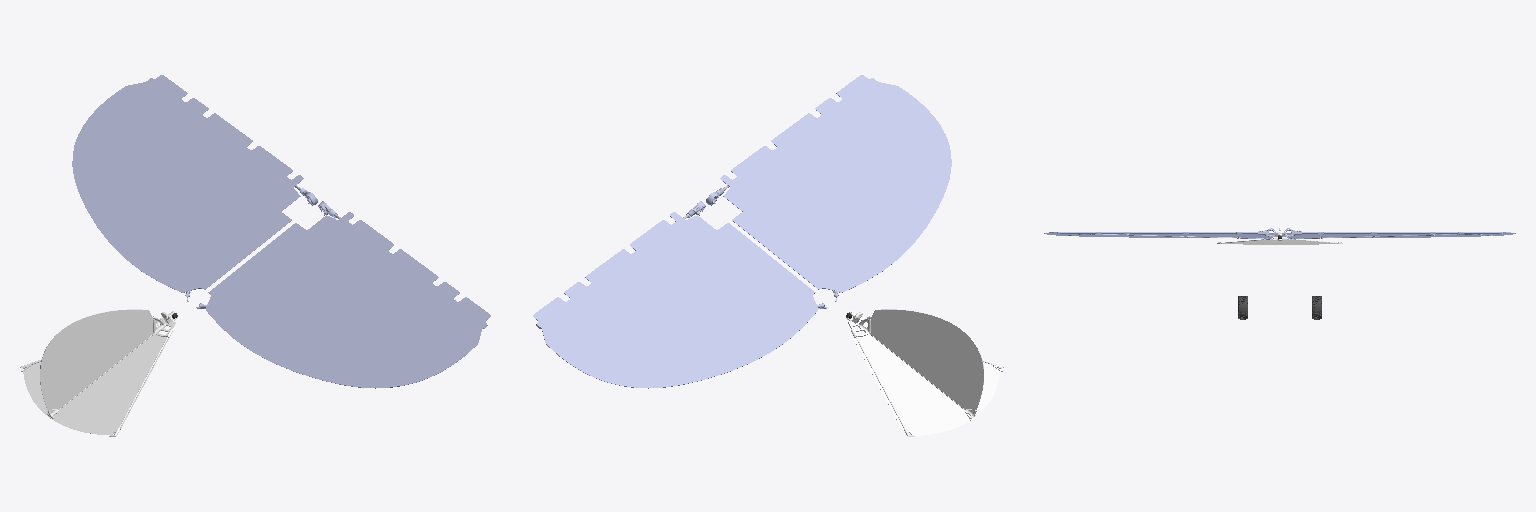
The robot description file, URDF, robot "we11_my_version":
<?xml version="1.0" encoding="utf-8"?>
<robot name="we11_my_version">

  <!-- ================================================================ -->
  <!-- base_link: inertial 抄新版 (含云台/电子/尾翼固定部分)                 -->
  <!--            collision 抄旧版 reviewed 简化 box                     -->
  <!--            visual 用新版 mesh                                     -->
  <!-- ================================================================ -->
  <link name="base_link">
    <inertial>
      <origin xyz="0.04588263 3.771e-05 0.04501853" rpy="0 0 0" />
      <mass value="1.79744014" />
      <inertia ixx="0.01509778" ixy="1.56e-06" ixz="-0.01047094"
               iyy="0.02513929" iyz="-5.9e-07" izz="0.01378862" />
    </inertial>
    <visual>
      <origin xyz="0 0 0" rpy="0 0 0" />
      <geometry>
        <mesh filename="../meshes_lod/base_link.STL" />
      </geometry>
      <material name="">
        <color rgba="0.75294 0.75294 0.75294 1" />
      </material>
    </visual>
    <collision name="base_link_collision">
      <origin xyz="-0.019765 0 -0.0045" rpy="0 0 0" />
      <geometry>
        <box size="0.12797 0.1183 0.11" />
      </geometry>
    </collision>
    <collision name="base_shoulder_collision">
      <origin xyz="0.123 0.0 0.129" rpy="1.570796 -0.471239 0" />
      <geometry>
        <box size="0.11 0.08 0.11" />
      </geometry>
    </collision>
  </link>

  <!-- ================================================================ -->
  <!-- 左腿: thigh -> calf -> foot (全抄 reviewed, 只改 visual mesh 路径) -->
  <!-- ================================================================ -->
  <link name="left_thigh_link">
    <inertial>
      <origin xyz="-0.00056472 0.01408423 0.04339388" rpy="0 0 0" />
      <mass value="0.4724629" />
      <inertia ixx="0.00084403" ixy="8.5e-06" ixz="-6.24e-06"
               iyy="0.00023291" iyz="0.00015111" izz="0.00069749" />
    </inertial>
    <visual>
      <origin xyz="0 0 0" rpy="0 0 0" />
      <geometry>
        <mesh filename="../meshes_lod/left_thigh_link.STL" />
      </geometry>
      <material name="">
        <color rgba="1 1 1 1" />
      </material>
    </visual>
    <collision name="left_thigh_collision">
      <origin xyz="-0.000013 0.047495 0.0274" rpy="0 0 0" />
      <geometry>
        <box size="0.032908 0.1684 0.0228" />
      </geometry>
    </collision>
  </link>
  <joint name="left_thigh_joint" type="revolute">
    <origin xyz="0.01525 0.0558499999999976 -0.0431991909058736"
            rpy="-1.5707963267949 0 0" />
    <parent link="base_link" />
    <child link="left_thigh_link" />
    <axis xyz="0.0 0.0 1.0" />
    <limit lower="-0.13" upper="1.57" effort="5.5" velocity="21.0" />
    <dynamics damping="6.925991655493124e-05"
              friction="0.00039277340996955734" />
  </joint>

  <link name="left_calf_link">
    <inertial>
      <origin xyz="-2.777e-05 0.12275622 0.01133502" rpy="0 0 0" />
      <mass value="0.30875" />
      <inertia ixx="0.00078788" ixy="3.9e-07" ixz="-1e-07"
               iyy="5.504e-05" iyz="-9.686e-05" izz="0.00077188" />
    </inertial>
    <visual>
      <origin xyz="0 0 0" rpy="0 0 0" />
      <geometry>
        <mesh filename="../meshes_lod/left_calf_link.STL" />
      </geometry>
      <material name="">
        <color rgba="1 0.94902 0.9098 1" />
      </material>
    </visual>
    <collision name="left_calf_shaft_collision">
      <origin xyz="0.0 0.078362 0.0" rpy="0 0 0" />
      <geometry>
        <box size="0.02 0.157276 0.02" />
      </geometry>
    </collision>
  </link>
  <joint name="left_calf_joint" type="revolute">
    <origin xyz="0 0.135800809094126 0.0199999999999967" rpy="0 0 0" />
    <parent link="left_thigh_link" />
    <child link="left_calf_link" />
    <axis xyz="-0.0 -0.0 1.0" />
    <limit lower="-2.522524368" upper="-1.285784060" effort="14.0" velocity="33.0" />
    <dynamics damping="0.0014802078217493464"
              friction="0.18304102565728816" />
  </joint>

  <link name="left_foot_link">
    <inertial>
      <origin xyz="-6.05e-06 3.53e-06 -0.00262162" rpy="0 0 0" />
      <mass value="0.12784" />
      <inertia ixx="7.506e-05" ixy="1e-08" ixz="1e-08"
               iyy="7.507e-05" iyz="0.0" izz="0.00012118" />
    </inertial>
    <visual>
      <origin xyz="0 0 0" rpy="0 0 0" />
      <geometry>
        <mesh filename="../meshes_lod/left_foot_link.STL" />
      </geometry>
      <material name="">
        <color rgba="0.36863 0.36863 0.36863 1" />
      </material>
    </visual>
    <collision name="left_foot_collision">
      <origin xyz="0.0 0.0 -0.001914845" rpy="0 0 0" />
      <geometry>
        <cylinder radius="0.0425" length="0.03457031" />
      </geometry>
    </collision>
  </link>
  <joint name="left_foot_joint" type="continuous">
    <origin xyz="0 0.149999999999687 0.0572000000000056" rpy="0 0 0" />
    <parent link="left_calf_link" />
    <child link="left_foot_link" />
    <axis xyz="-0.0 -0.0 1.0" />
    <limit effort="5.5" velocity="1000.0" />
    <dynamics damping="0.0" friction="0.0" />
  </joint>

  <!-- ================================================================ -->
  <!-- 右腿: thigh -> calf -> foot (对称抄 reviewed)                     -->
  <!-- ================================================================ -->
  <link name="right_thigh_link">
    <inertial>
      <origin xyz="-0.0005647199999883994 -0.014084230000003398 0.043393879999997616"
              rpy="0 0 0" />
      <mass value="0.4724629" />
      <inertia ixx="0.00084403" ixy="-8.5e-06" ixz="-6.24e-06"
               iyy="0.00023291" iyz="-0.00015111" izz="0.00069749" />
    </inertial>
    <visual>
      <origin xyz="0 0 0" rpy="0 0 0" />
      <geometry>
        <mesh filename="../meshes_lod/right_thigh_link.STL" />
      </geometry>
      <material name="">
        <color rgba="0.86667 0.9098 1 1" />
      </material>
    </visual>
    <collision name="right_thigh_collision">
      <origin xyz="-0.000013 -0.047495 0.0274" rpy="0 0 0" />
      <geometry>
        <box size="0.032908 0.1684 0.0228" />
      </geometry>
    </collision>
  </link>
  <joint name="right_thigh_joint" type="revolute">
    <origin xyz="0.0152499999999884 -0.05585 -0.0431991909058702"
            rpy="1.5707963267949 0 0" />
    <parent link="base_link" />
    <child link="right_thigh_link" />
    <axis xyz="-0.0 -0.0 -1.0" />
    <limit lower="-0.13" upper="1.57" effort="5.5" velocity="21.0" />
    <dynamics damping="6.925991655493124e-05"
              friction="0.00039277340996955734" />
  </joint>

  <link name="right_calf_link">
    <inertial>
      <origin xyz="-2.7769999988399782e-05 -0.12275621999999943 0.011335019999994296"
              rpy="0 0 0" />
      <mass value="0.30875" />
      <inertia ixx="0.00078788" ixy="-3.9e-07" ixz="-1e-07"
               iyy="5.504e-05" iyz="9.686e-05" izz="0.00077188" />
    </inertial>
    <visual>
      <origin xyz="0 0 0" rpy="0 0 0" />
      <geometry>
        <mesh filename="../meshes_lod/right_calf_link.STL" />
      </geometry>
      <material name="">
        <color rgba="1 0.94902 0.9098 1" />
      </material>
    </visual>
    <collision name="right_calf_shaft_collision">
      <origin xyz="0.0 -0.078362 0.0" rpy="0 0 0" />
      <geometry>
        <box size="0.02 0.157276 0.02" />
      </geometry>
    </collision>
  </link>
  <joint name="right_calf_joint" type="revolute">
    <origin xyz="0 -0.13580080909413 0.02" rpy="0 0 0" />
    <parent link="right_thigh_link" />
    <child link="right_calf_link" />
    <axis xyz="-0.0 -0.0 -1.0" />
    <limit lower="-2.522524368" upper="-1.285784060" effort="14.0" velocity="33.0" />
    <dynamics damping="0.0014802078217493464"
              friction="0.18304102565728816" />
  </joint>

  <link name="right_foot_link">
    <inertial>
      <origin xyz="-6.0499999884004035e-06 3.529999392349453e-06 0.0026216200000012124"
              rpy="0 0 0" />
      <mass value="0.12784" />
      <inertia ixx="7.506e-05" ixy="1.0000000000000032e-08" ixz="-9.999999999999969e-09"
               iyy="7.507e-05" iyz="0.0" izz="0.00012118" />
    </inertial>
    <visual>
      <origin xyz="0 0 0" rpy="0 0 0" />
      <geometry>
        <mesh filename="../meshes_lod/right_foot_link.STL" />
      </geometry>
      <material name="">
        <color rgba="0.36863 0.36863 0.36863 1" />
      </material>
    </visual>
    <collision name="right_foot_collision">
      <origin xyz="0.0 0.0 0.001914845" rpy="0 0 0" />
      <geometry>
        <cylinder radius="0.0425" length="0.03457031" />
      </geometry>
    </collision>
  </link>
  <joint name="right_foot_joint" type="continuous">
    <origin xyz="0 -0.150000000000294 0.0572000000000011"
            rpy="3.14159265358979 0 0" />
    <parent link="right_calf_link" />
    <child link="right_foot_link" />
    <axis xyz="0.0 0.0 1.0" />
    <limit effort="5.5" velocity="1000.0" />
    <dynamics damping="0.0" friction="0.0" />
  </joint>

  <!-- ================================================================ -->
  <!-- 左翼: revolute, 零位=17.5° 上抬 (limit -17.5°~+72.5°, 共 90°)      -->
  <!-- inertial 抄新版 CAD; visual 用新版 mesh; collision 用简化 box       -->
  <!-- effort/velocity/dynamics 复用大腿关节实机辨识值                     -->
  <!-- ================================================================ -->
  <link name="left_wing_link">
    <inertial>
      <origin xyz="-0.04294591 0.29416066 -0.11926569" rpy="0 0 0" />
      <mass value="0.06633" />
      <inertia ixx="0.00448339" ixy="0.00104762" ixz="0.00028627"
               iyy="0.0013905" iyz="0.00046497" izz="0.00414202" />
    </inertial>
    <visual>
      <origin xyz="0 0 0" rpy="0 0 0" />
      <geometry>
        <mesh filename="../meshes_lod/left_wing_link.STL" />
      </geometry>
      <material name="">
        <color rgba="0.79216 0.81961 0.93333 1" />
      </material>
    </visual>
    <collision name="left_wing_tip_collision">
      <origin xyz="-0.08 0.51 -0.19" rpy="-0.174532925199433 -0.401425727958696 0.349065850398866" />
      <geometry>
        <box size="0.04 0.36 0.23" />
      </geometry>
    </collision>
  </link>
  <joint name="left_wing_joint" type="revolute">
    <origin xyz="0.14789 0.031025 0.15872"
            rpy="-1.498663 1.301348 -1.642929" />
    <parent link="base_link" />
    <child link="left_wing_link" />
    <axis xyz="0.46947 0 -0.88295" />
    <limit lower="-1.5708" upper="0" effort="5.5" velocity="21.0" />
    <dynamics damping="6.925991655493124e-05"
              friction="0.00039277340996955734" />
  </joint>

  <!-- ================================================================ -->
  <!-- 右翼: 左严格镜像 (y→-y, ixy→-ixy, iyz→-iyz, roll/yaw 符号翻转)     -->
  <!-- ================================================================ -->
  <link name="right_wing_link">
    <inertial>
      <origin xyz="-0.04294591 -0.29416066 -0.11926569" rpy="0 0 0" />
      <mass value="0.06633" />
      <inertia ixx="0.00448339" ixy="-0.00104762" ixz="0.00028627"
               iyy="0.0013905" iyz="-0.00046497" izz="0.00414202" />
    </inertial>
    <visual>
      <origin xyz="0 0 0" rpy="0 0 0" />
      <geometry>
        <mesh filename="../meshes_lod/right_wing_link.STL" />
      </geometry>
      <material name="">
        <color rgba="0.79216 0.81961 0.93333 1" />
      </material>
    </visual>
    <collision name="right_wing_tip_collision">
      <origin xyz="-0.08 -0.51 -0.19" rpy="0.174532925199433 -0.401425727958696 -0.349065850398866" />
      <geometry>
        <box size="0.04 0.36 0.23" />
      </geometry>
    </collision>
  </link>
  <joint name="right_wing_joint" type="revolute">
    <origin xyz="0.14789 -0.031025 0.15872"
            rpy="1.498663 1.301348 1.642929" />
    <parent link="base_link" />
    <child link="right_wing_link" />
    <axis xyz="-0.46947 0 0.88295" />
    <limit lower="-1.5708" upper="0" effort="5.5" velocity="21.0" />
    <dynamics damping="6.925991655493124e-05"
              friction="0.00039277340996955734" />
  </joint>

  <!-- ================================================================ -->
  <!-- 尾翼: U1 + U2 (保留新版几何, joint 改 fixed, 与主体固定)            -->
  <!-- ================================================================ -->
  <link name="U1_link">
    <inertial>
      <origin xyz="0 0 -0.00665" rpy="0 0 0" />
      <mass value="0.00162207" />
      <inertia ixx="4e-08" ixy="0" ixz="0"
               iyy="4e-08" iyz="0" izz="4e-08" />
    </inertial>
    <visual>
      <origin xyz="0 0 0" rpy="0 0 0" />
      <geometry>
        <mesh filename="../meshes_lod/U1_link.STL" />
      </geometry>
      <material name="">
        <color rgba="0.29804 0.29804 0.29804 1" />
      </material>
    </visual>
    <collision name="U1_collision">
      <origin xyz="0 0 -0.00665" rpy="0 0 0" />
      <geometry>
        <box size="0.0121 0.0133 0.0133" />
      </geometry>
    </collision>
  </link>
  <joint name="U1_joint" type="fixed">
    <origin xyz="-0.2383 0.0067051 -0.038129"
            rpy="-1.5708 -0.48869 0" />
    <parent link="base_link" />
    <child link="U1_link" />
  </joint>

  <link name="U2_link">
    <inertial>
      <origin xyz="-0.16198053 0.00053672 0.00551936" rpy="0 0 0" />
      <mass value="0.0462933" />
      <inertia ixx="0.00032768" ixy="1.95e-06" ixz="3.131e-05"
               iyy="0.00077081" iyz="4.5e-07" izz="0.0009803" />
    </inertial>
    <visual>
      <origin xyz="0 0 0" rpy="0 0 0" />
      <geometry>
        <mesh filename="../meshes_lod/U2_link.STL" />
      </geometry>
      <material name="">
        <color rgba="1 1 1 1" />
      </material>
    </visual>
    <collision name="U2_collision">
      <origin xyz="0.037 0 -0.015" rpy="0 0 0" />
      <geometry>
        <box size="0.054 0.071 0.030001" />
      </geometry>
    </collision>
  </link>
  <joint name="U2_joint" type="fixed">
    <origin xyz="0 -0.00673 -0.00665" rpy="1.5708 0 0" />
    <parent link="U1_link" />
    <child link="U2_link" />
  </joint>

</robot>

--- What the picture shows (computed from the rendered views, not written in the file) ---
Views: 3 orthographic renders of the robot side by side, from view 1: azimuth 30°, elevation 25°; view 2: azimuth 150°, elevation 25°; view 3: azimuth 270°, elevation 25°.
Robot: we11_my_version — 11 links, 10 joints (6 revolute, 2 continuous, 2 fixed); root link base_link; default pose: joints at zero except 2 at the middle of their limits (left_calf_joint = -1.9, right_calf_joint = -1.9).
Links seen in each view (by area): view 1: right_wing_link, left_wing_link, U2_link; view 2: left_wing_link, right_wing_link, U2_link; view 3: right_wing_link, left_wing_link, U2_link.
Boxes of the visible links, x1,y1,x2,y2 form: right_wing_link: (196,201,490,388); left_wing_link: (72,75,317,301); U2_link: (20,309,177,436); left_wing_link: (533,201,827,388); right_wing_link: (706,75,951,301); U2_link: (846,309,1003,436); right_wing_link: (1044,228,1277,239); left_wing_link: (1282,228,1515,239); U2_link: (1217,228,1342,244).
Bounding box of the posed robot: 0.8055 × 1.68 × 0.4065 m (x, y, z).
6 mesh visuals loaded from 11 distinct referenced files (6 binary STL); not drawn: 5 (reference not matched to a file when rendering).
